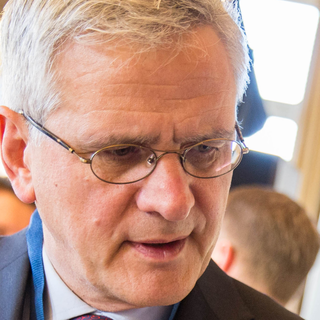eye: (99, 142, 146, 164)
